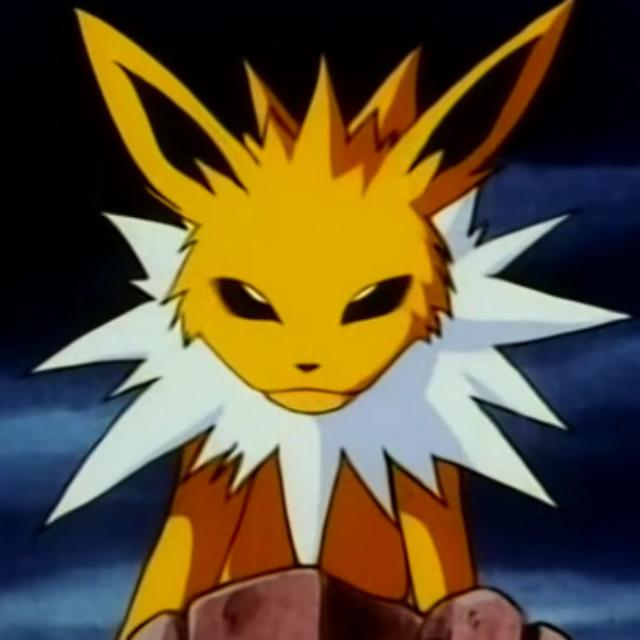Jolteon: (93, 24, 530, 609)
